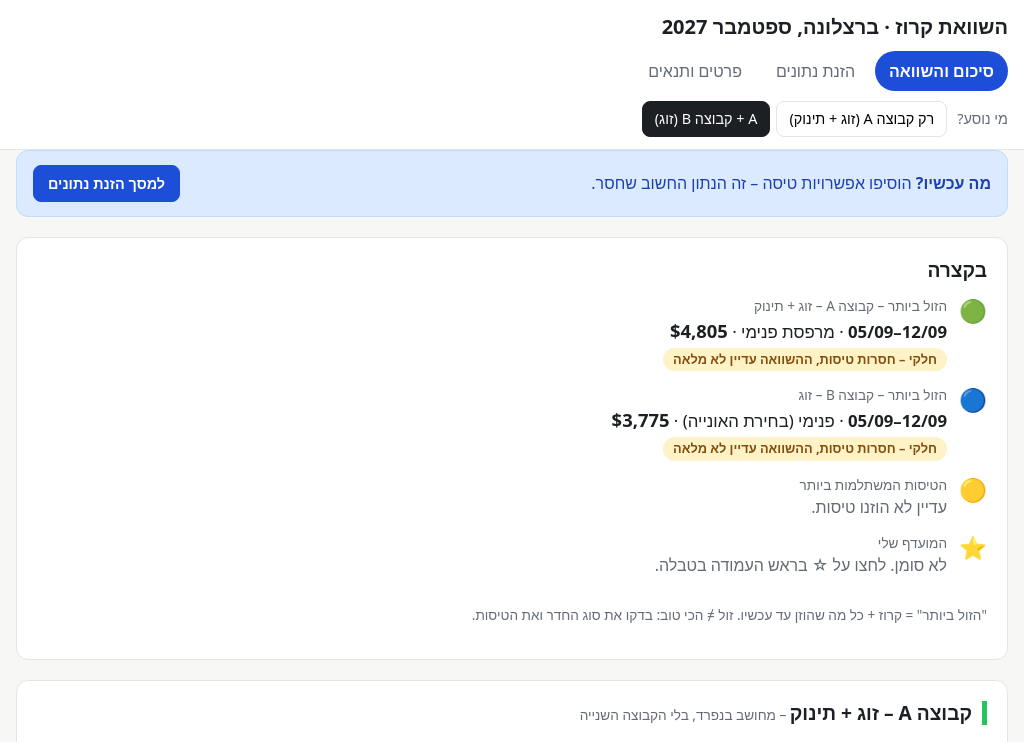
details screen › marks the deposit as needing clarification and does not pick a number
Click the button "פרטים ותנאים".
click(695, 71)  # box x1=634 y1=51 x2=756 y2=91
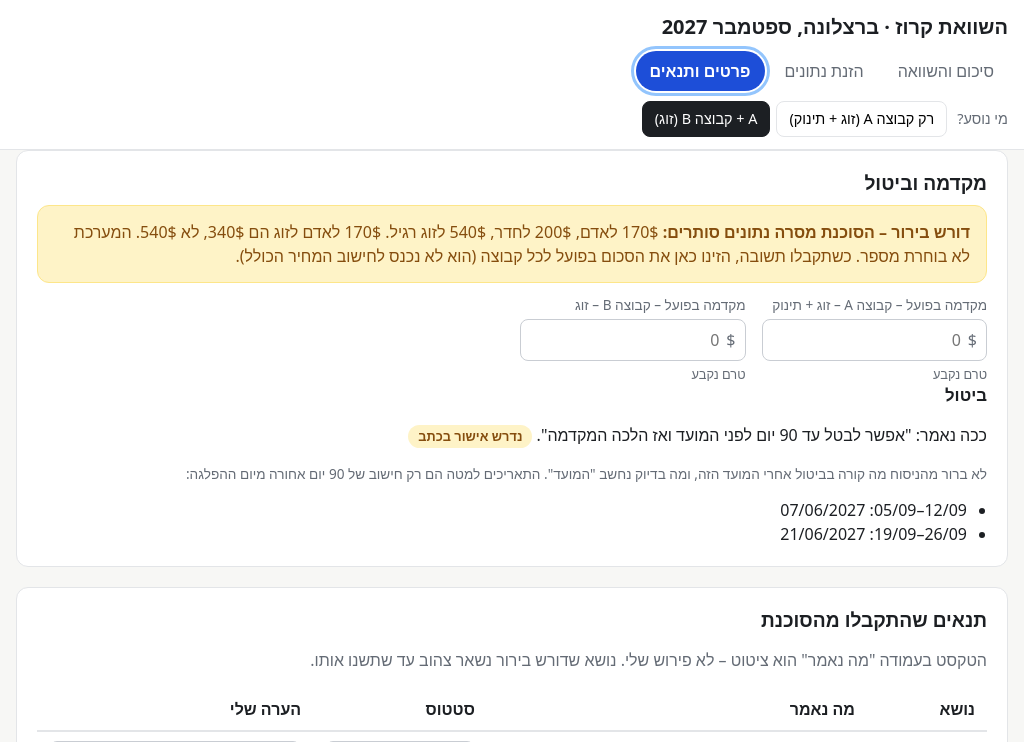
Expected: the text "דורש בירור – הסוכנת מסרה נתונים סותרים:" is shown, x1=663 y1=221 x2=970 y2=243
